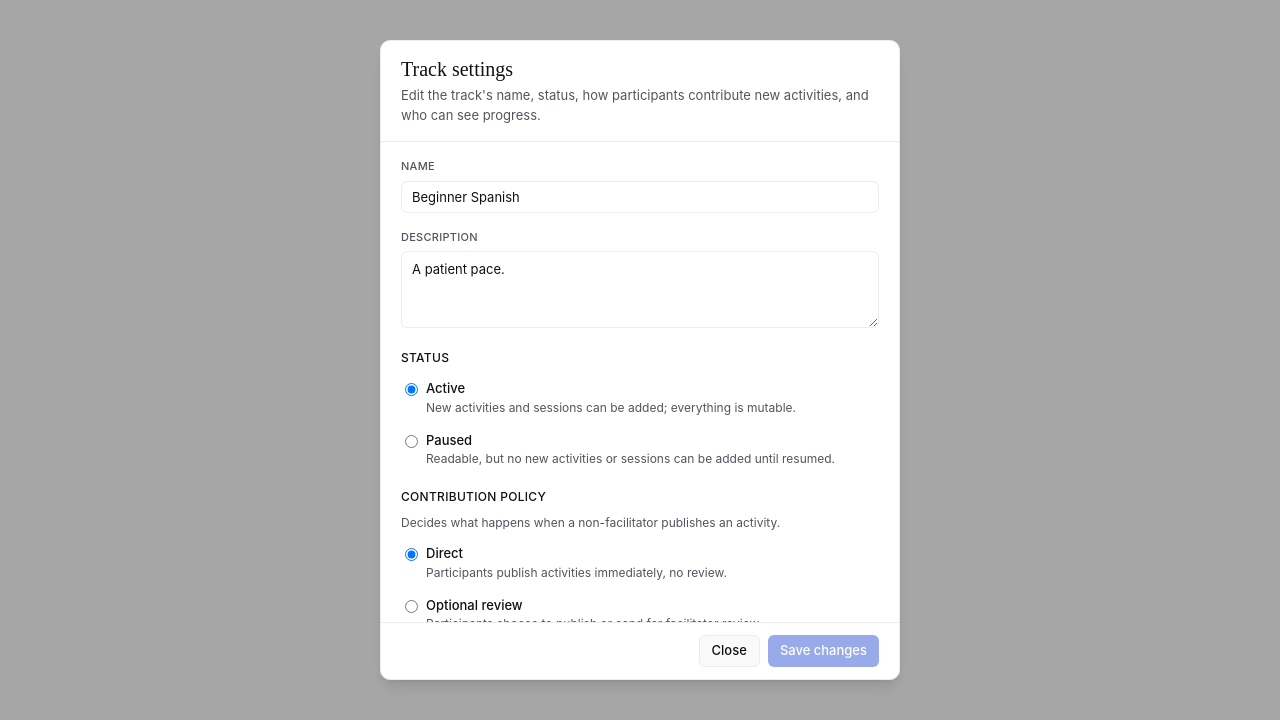
Test case: TrackSettingsDialog combined dirty gate › enables Save when only the status radio changes (no metadata edit)
Expected: the button "Save changes" is disabled, x1=768 y1=635 x2=879 y2=667
Click the radio button labelled "Paused" at coordinates (412, 441), box x1=405 y1=434 x2=418 y2=448
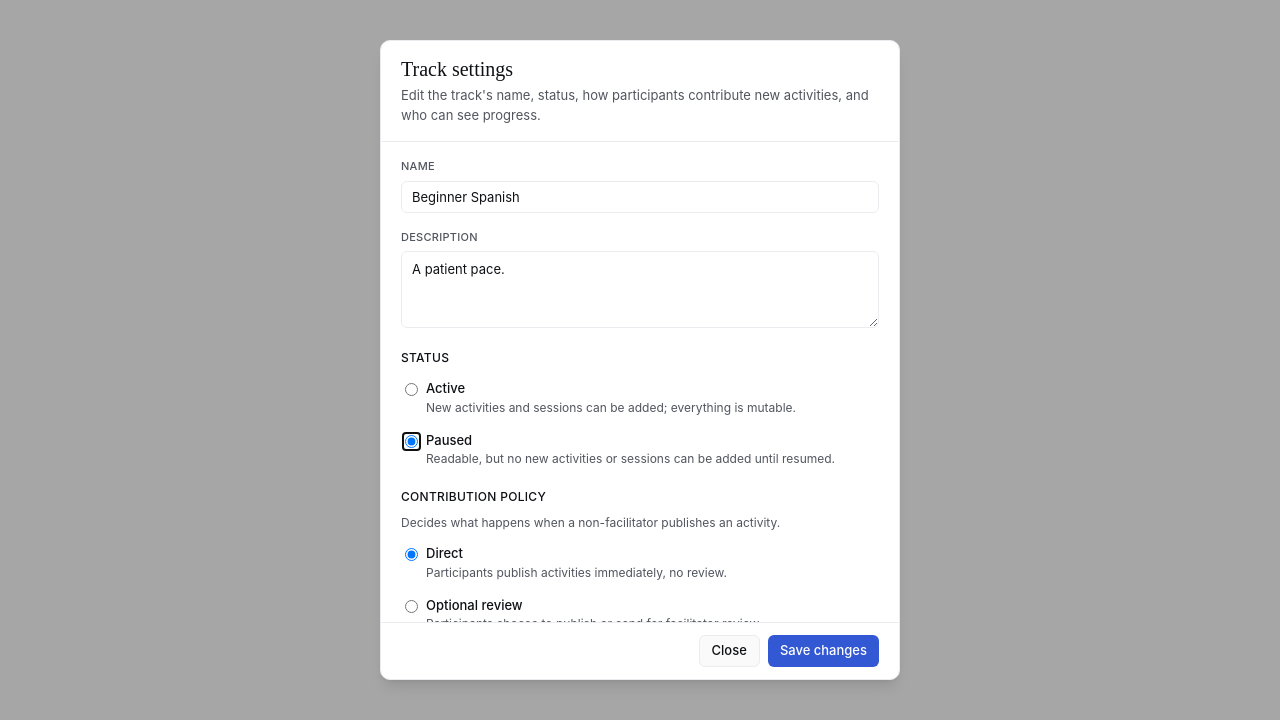
Result: the button "Save changes" is enabled at x1=768 y1=635 x2=879 y2=667
